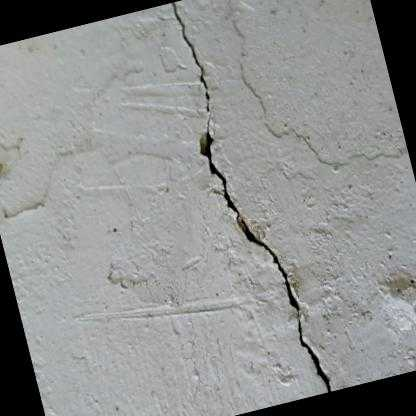crack: (170, 1, 333, 393)
